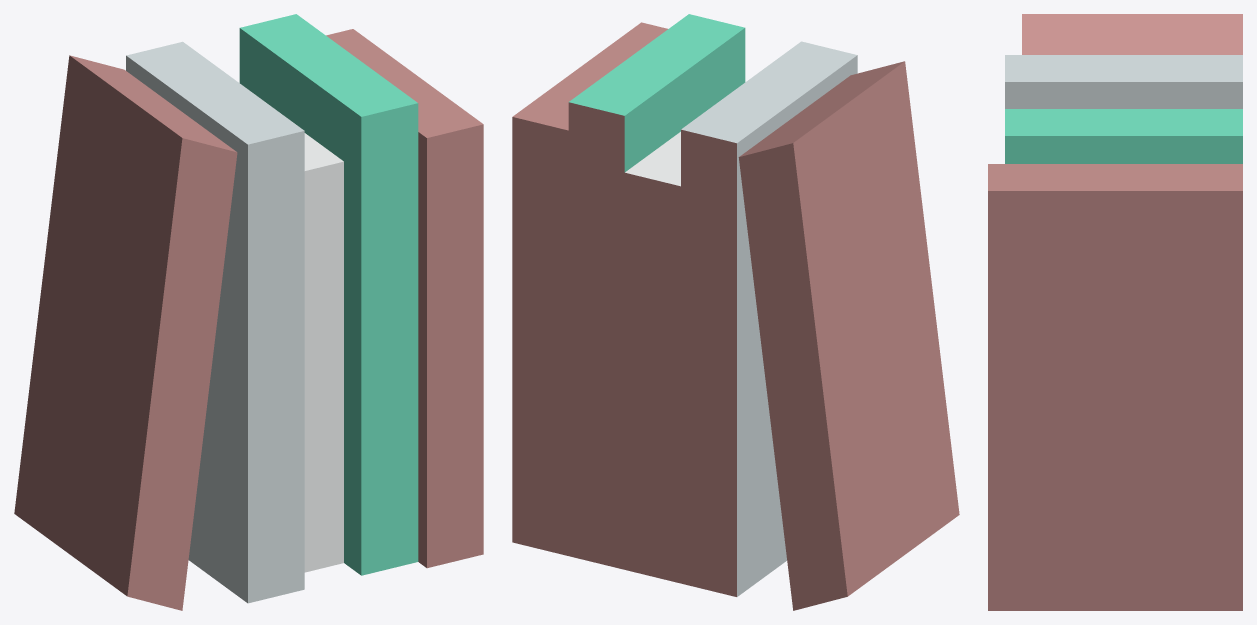
Rendered from office-book-stack.glb.
3 views of the same model, side by side, from view 1: azimuth 30°, elevation 25°; view 2: azimuth 150°, elevation 25°; view 3: azimuth 270°, elevation 25° (orthographic). The views are drawn at different scales.
Visible parts, largest first — view 1: books(Clone); view 2: books(Clone); view 3: books(Clone).
Boxes of the visible parts, x1,y1,x2,y2 form: books(Clone): (14,14,483,610); books(Clone): (512,14,959,610); books(Clone): (988,14,1242,610).
Size of the model in its own units: 0.15 by 0.2 by 0.1.
